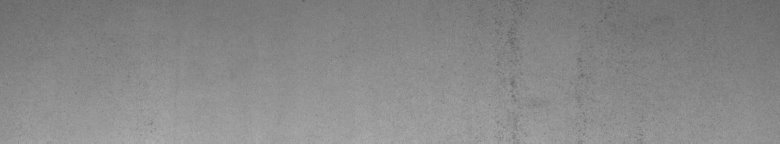ib: (508, 39, 582, 102)
